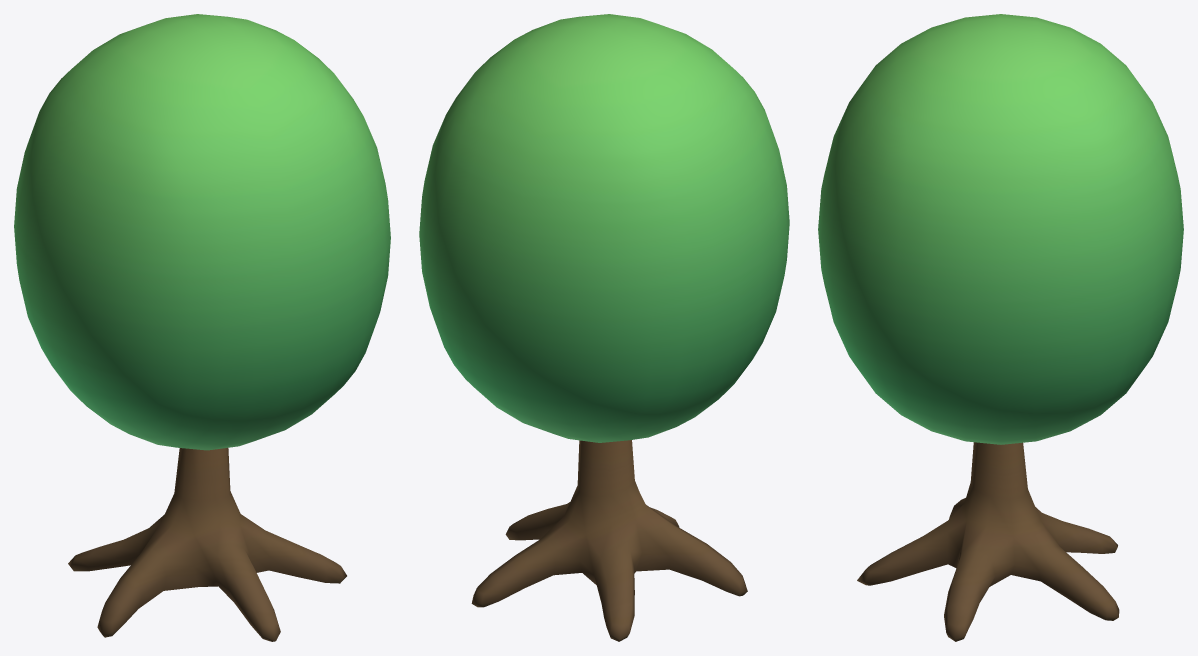
Rendered from TreeTest.fbx.
3 renders of one model, left to right at view 1: azimuth 30°, elevation 25°; view 2: azimuth 150°, elevation 25°; view 3: azimuth 270°, elevation 25°, orthographic.
Parts seen in each view (by area): view 1: Cube.025, Cylinder.004; view 2: Cube.025, Cylinder.004; view 3: Cube.025, Cylinder.004.
Part boxes in pixels (x1=…): Cube.025: x1=14, y1=14, x2=390, y2=450; Cylinder.004: x1=68, y1=448, x2=346, y2=641; Cube.025: x1=419, y1=14, x2=789, y2=442; Cylinder.004: x1=471, y1=440, x2=747, y2=641; Cube.025: x1=818, y1=14, x2=1183, y2=444; Cylinder.004: x1=857, y1=442, x2=1119, y2=641.
Bounding box in the file's own units: 495 × 829 × 495.
